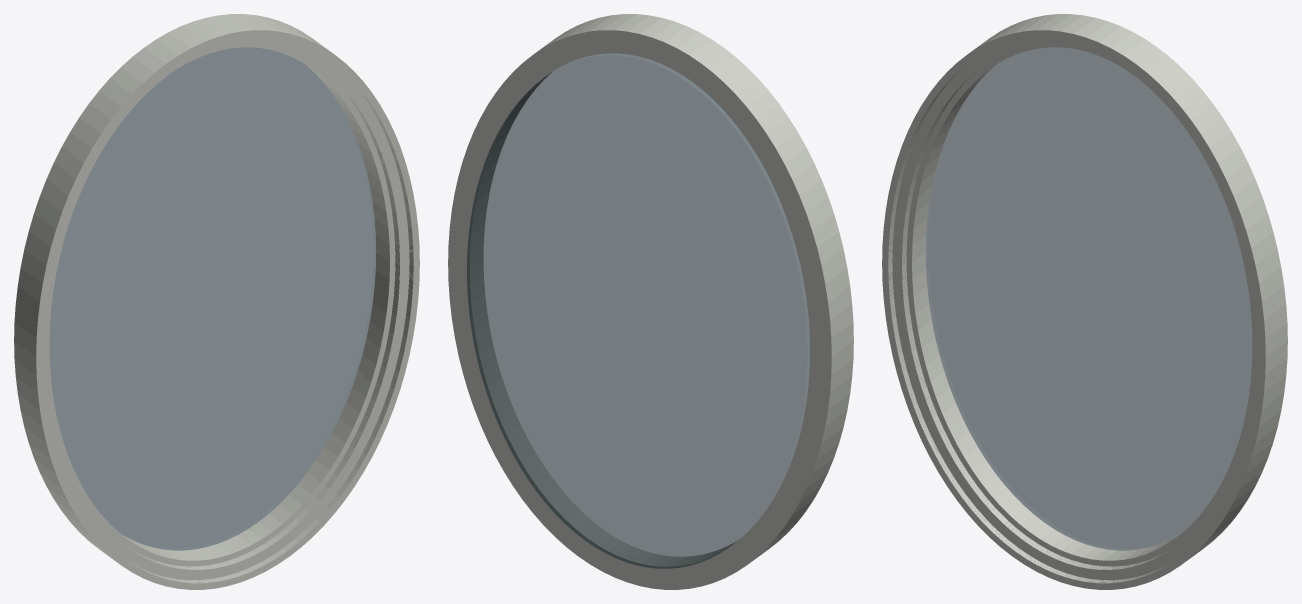
The model's file is clasico_ellipse.glb.
3 renders of one model, left to right at view 1: azimuth 30°, elevation 25°; view 2: azimuth 150°, elevation 25°; view 3: azimuth 330°, elevation 25°, orthographic.
Visible parts, largest first — view 1: window_glass#0001, window_reveal#0001, window_profile#0020, window_profile#0009, window_profile#0010, window_profile#0017, window_profile#0011, window_profile#0001, window_profile#0019, window_profile#0018, window_profile#0012, window_profile#0002 (+10 smaller); view 2: window_glass#0001, window_reveal#0001, window_profile#0020, window_profile#0001; view 3: window_glass#0001, window_reveal#0001, window_profile#0020, window_profile#0009, window_profile#0010, window_profile#0017, window_profile#0011, window_profile#0019, window_profile#0018, window_profile#0001, window_profile#0012, window_profile#0002 (+10 smaller).
Boxes of the visible parts, x1,y1,x2,y2 form: window_glass#0001: (49,47,376,550); window_reveal#0001: (14,14,388,559); window_profile#0020: (25,22,419,589); window_profile#0009: (46,42,402,572); window_profile#0010: (43,39,404,574); window_profile#0017: (41,35,415,584); window_profile#0011: (42,37,407,577); window_profile#0001: (48,46,391,561); window_profile#0019: (37,32,418,588); window_profile#0018: (39,33,416,586); window_profile#0012: (61,37,409,580); window_profile#0002: (48,44,392,563); window_glass#0001: (467,53,810,568); window_reveal#0001: (448,21,844,589); window_profile#0020: (547,14,853,553); window_profile#0001: (481,81,734,558); window_glass#0001: (925,47,1252,550); window_reveal#0001: (913,14,1287,559); window_profile#0020: (882,22,1276,589); window_profile#0009: (899,42,1255,572); window_profile#0010: (897,39,1258,574); window_profile#0017: (886,35,1260,584); window_profile#0011: (894,37,1259,577); window_profile#0019: (883,32,1264,588); window_profile#0018: (885,33,1262,586); window_profile#0001: (910,46,1253,561); window_profile#0012: (892,37,1240,580); window_profile#0002: (909,44,1253,563).
Bounding box in the file's own units: 1.6 × 2.2 × 0.18.
